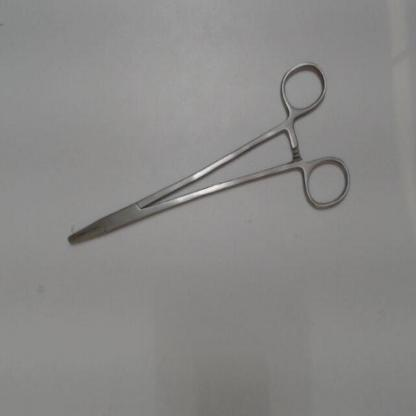8 Mayo Needle Holder: (59, 50, 361, 257)
